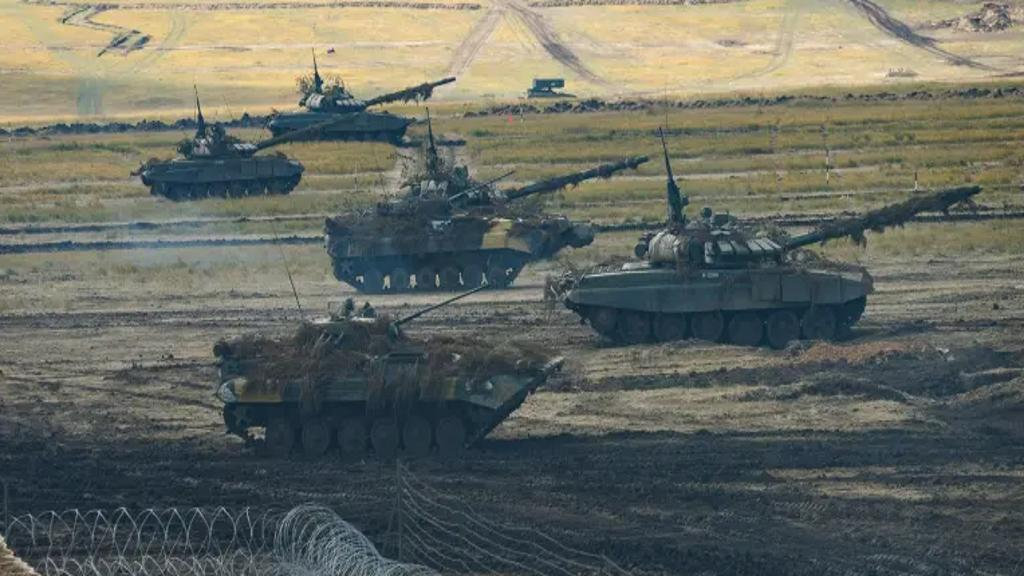APC-IFV: (211, 284, 566, 465), (323, 168, 548, 293)
TANK: (566, 178, 985, 357), (332, 147, 650, 291), (138, 110, 363, 203), (262, 73, 458, 145)
